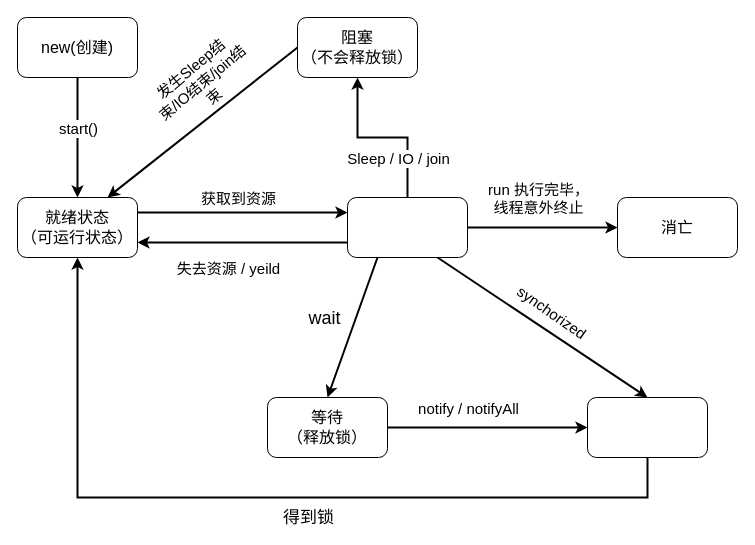
The diagram is 755 pixels wide and 545 high, and some of its shapes have lost their labels. The shapes that lost their labels are listed below. From the top down, each one's centre as x and y in pixels, then its label:
At pixel 407 227: "运行".
At pixel 647 427: "锁池".
